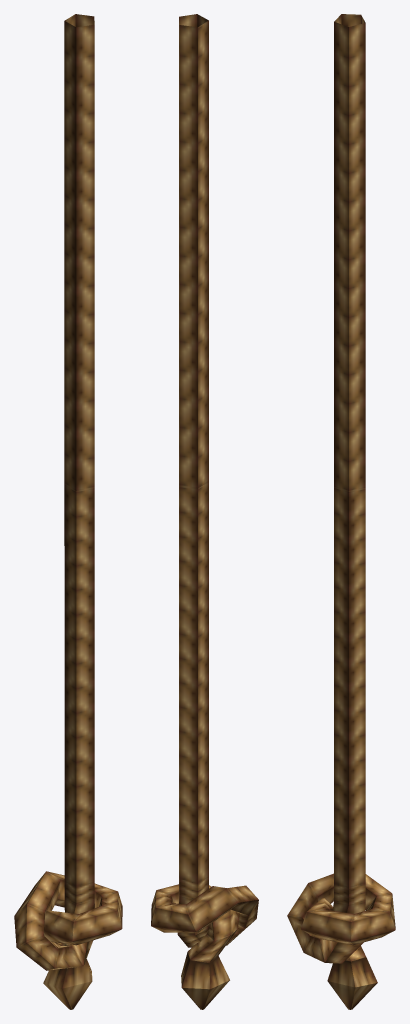
Rendered from Poly_Rope_01.obj.
3 renders of one model, left to right at view 1: azimuth 30°, elevation 25°; view 2: azimuth 210°, elevation 25°; view 3: azimuth 330°, elevation 25°, orthographic.
Visible parts, largest first — view 1: Cube_Cube.002; view 2: Cube_Cube.002; view 3: Cube_Cube.002.
Part boxes in pixels (left/top/right/bottom): Cube_Cube.002: left=14, top=14, right=122, bottom=1009; Cube_Cube.002: left=151, top=14, right=258, bottom=1009; Cube_Cube.002: left=287, top=14, right=395, bottom=1009.
Size of the model in its own units: 0.3171 by 2.88 by 0.2269.
1 material, 1 textured.
